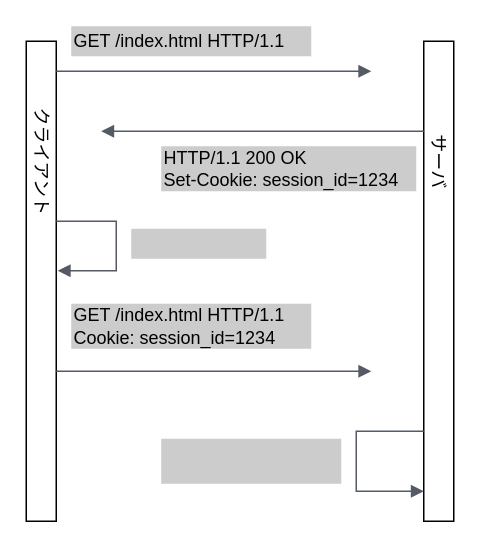
The diagram is 480 pixels wide and 548 high, and some of its shapes have lost their labels. Here are the shapes that lost their labels. From the top down, the centre of each, then its label:
the point at 198,243: Cookieの保存
the point at 250,460: サーバは依然と同じ クライアントと認識
